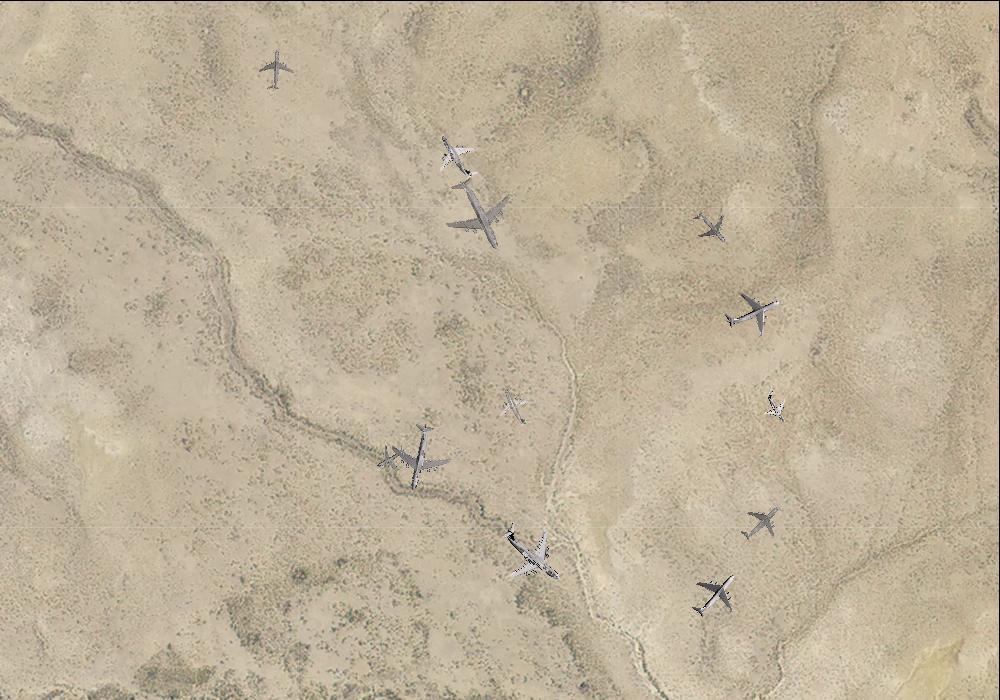plane: (429, 163, 528, 264), (482, 504, 582, 603), (380, 417, 457, 497), (679, 558, 751, 631), (717, 276, 789, 348), (424, 122, 490, 190), (730, 491, 792, 553), (684, 200, 738, 255), (489, 379, 541, 434), (754, 384, 798, 429), (368, 436, 412, 479), (255, 48, 295, 90)
